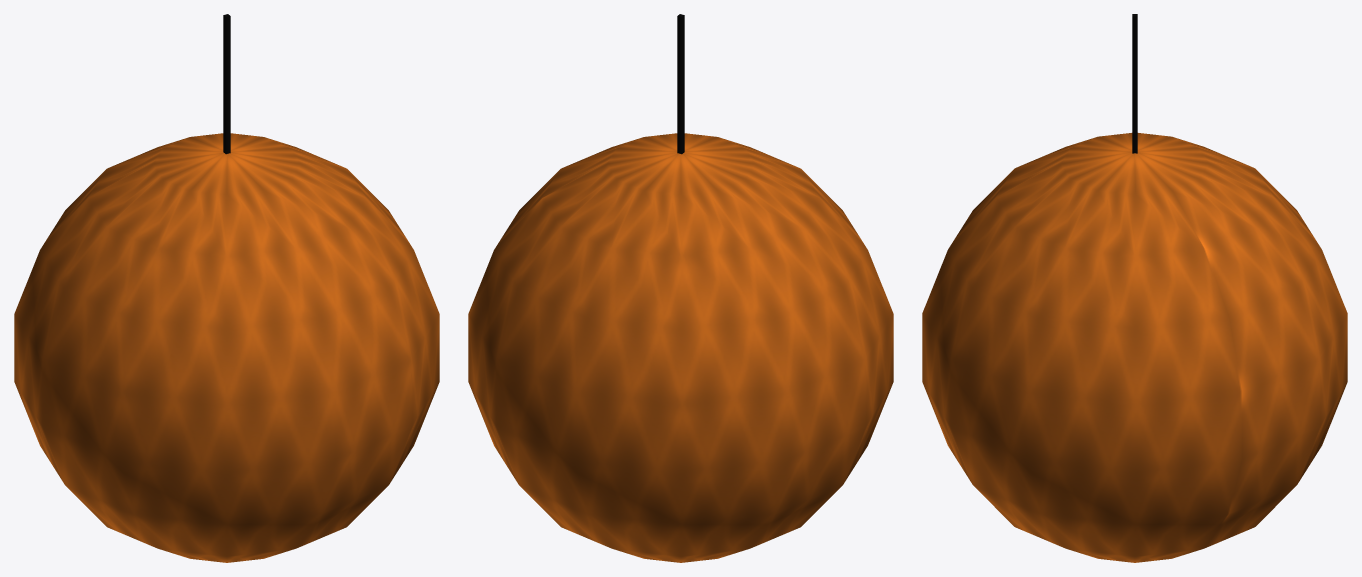
The model's file is HW_HoneyCombOrange.fbx.
The picture shows the model from 3 angles, left to right: view 1: azimuth 30°, elevation 25°; view 2: azimuth 150°, elevation 25°; view 3: azimuth 270°, elevation 25°; orthographic projection.
Visible parts, largest first — view 1: HW_HoneyCombOrange; view 2: HW_HoneyCombOrange; view 3: HW_HoneyCombOrange.
Boxes of the visible parts, box(x1,y1,x2,y2) form: HW_HoneyCombOrange: box(14, 14, 439, 562); HW_HoneyCombOrange: box(468, 14, 893, 562); HW_HoneyCombOrange: box(922, 14, 1347, 562).
Bounding box in the file's own units: 0.2166 × 0.2968 × 0.2166.
Materials: 1 (1 with a texture image).
